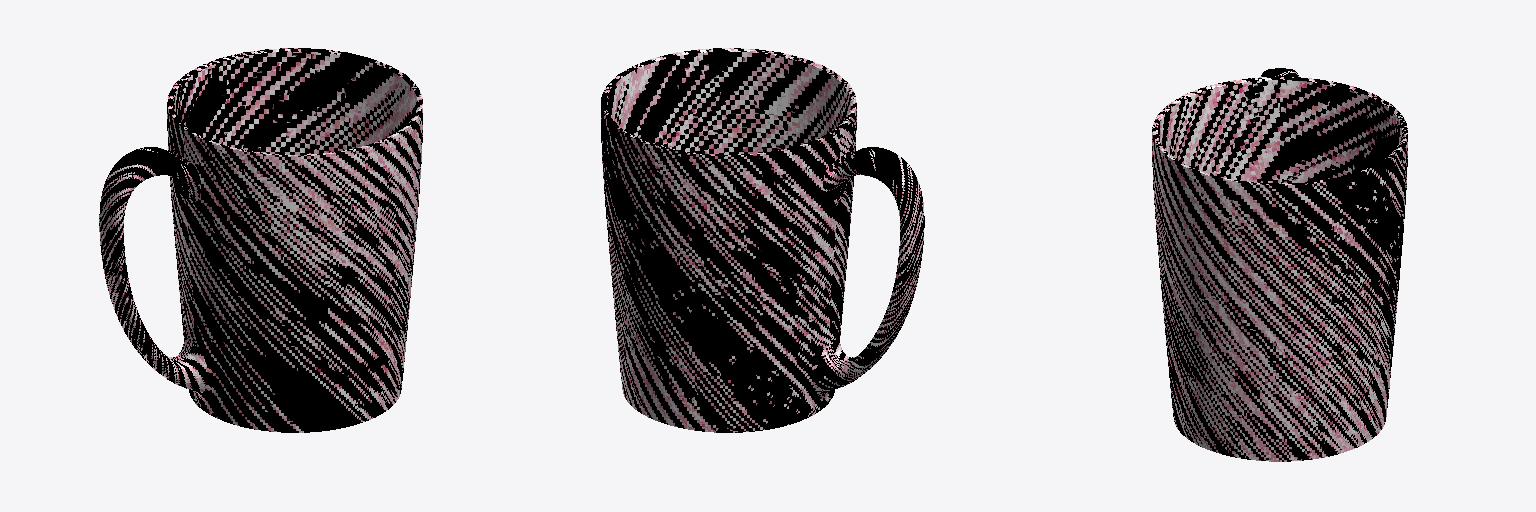
3 views of the same model, side by side, from view 1: azimuth 30°, elevation 25°; view 2: azimuth 150°, elevation 25°; view 3: azimuth 270°, elevation 25° (orthographic).
Parts seen in each view (by area): view 1: defaultMaterial; view 2: defaultMaterial; view 3: defaultMaterial.
Part boxes in pixels (x1,y1,x2,y2): defaultMaterial: (99, 48, 422, 432); defaultMaterial: (601, 48, 924, 432); defaultMaterial: (1152, 68, 1407, 461).
Size of the model in its own units: 2 by 1.84 by 1.48.
Materials: 1 (1 with a texture image).